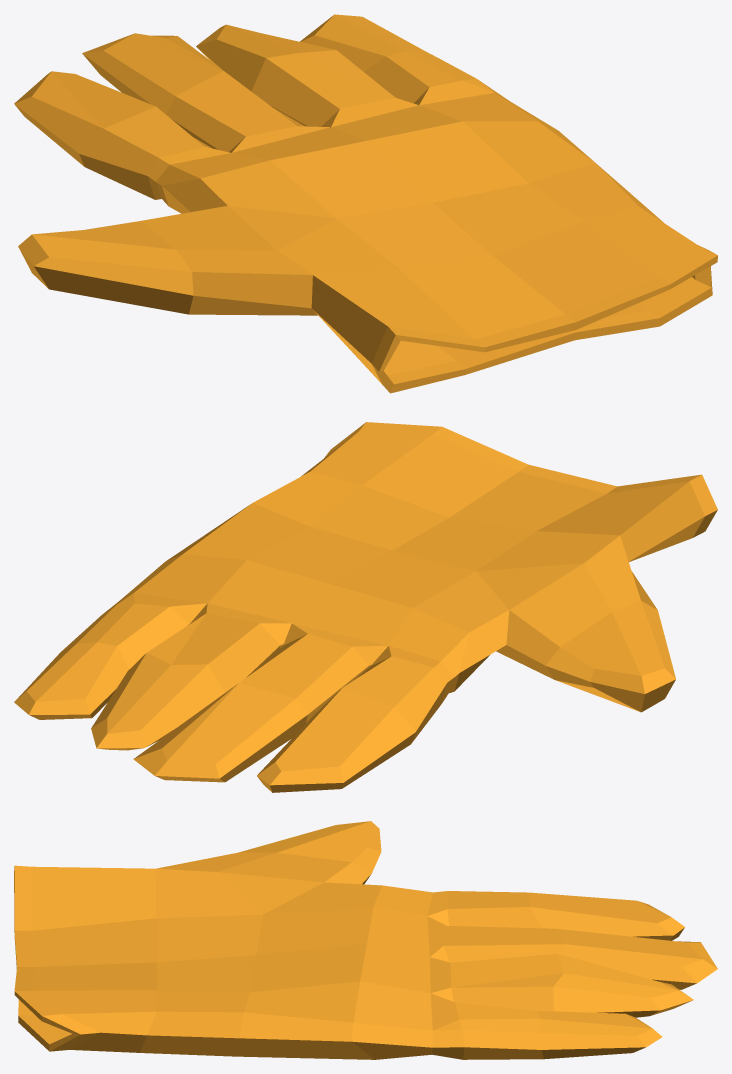
Rendered from SM_Glove_Work_Fabric_B.fbx.
3 renders of one model, top to bottom at view 1: azimuth 30°, elevation 25°; view 2: azimuth 150°, elevation 25°; view 3: azimuth 270°, elevation 25°, orthographic. The views are drawn at different scales.
Parts seen in each view (by area): view 1: glove-work-fabric-b; view 2: glove-work-fabric-b; view 3: glove-work-fabric-b.
Part boxes in pixels (box(x1,y1,x2,y2)): glove-work-fabric-b: box(14, 14, 717, 393); glove-work-fabric-b: box(14, 422, 717, 792); glove-work-fabric-b: box(14, 821, 717, 1059).
Bounding box in the file's own units: 0.1672 × 0.0175 × 0.2294.
